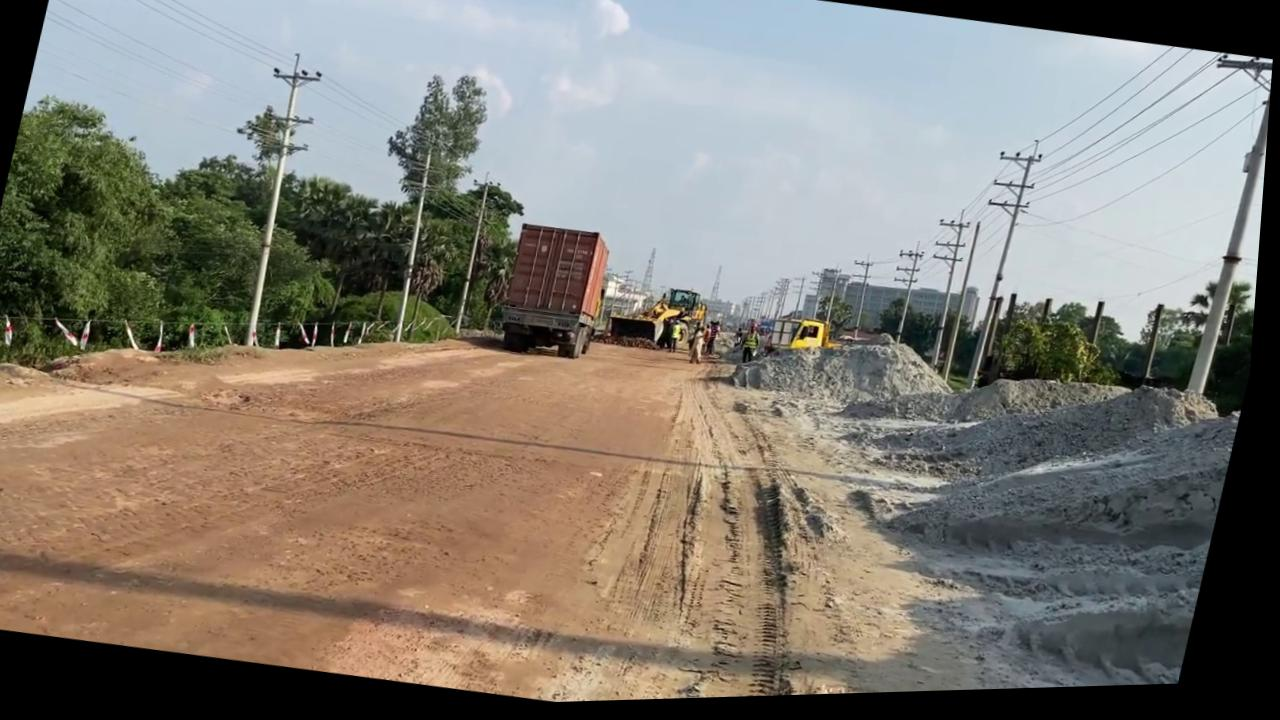Muddy road: (0, 228, 1253, 720)
Pole: (214, 49, 331, 350), (1190, 68, 1274, 404), (388, 151, 447, 345)
Traffic-sign: (0, 86, 207, 386)
Tree: (495, 221, 622, 366), (608, 280, 718, 358), (792, 320, 849, 360)
